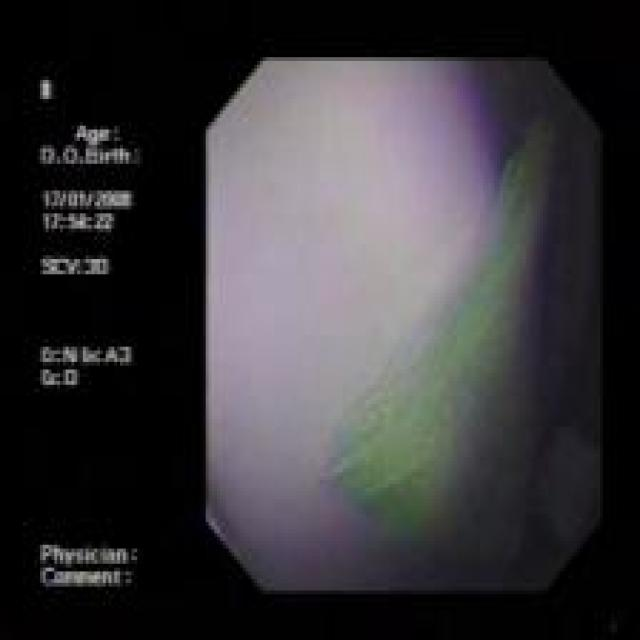color misalignment: (206, 59, 602, 586), (322, 118, 568, 568), (39, 77, 160, 590)
